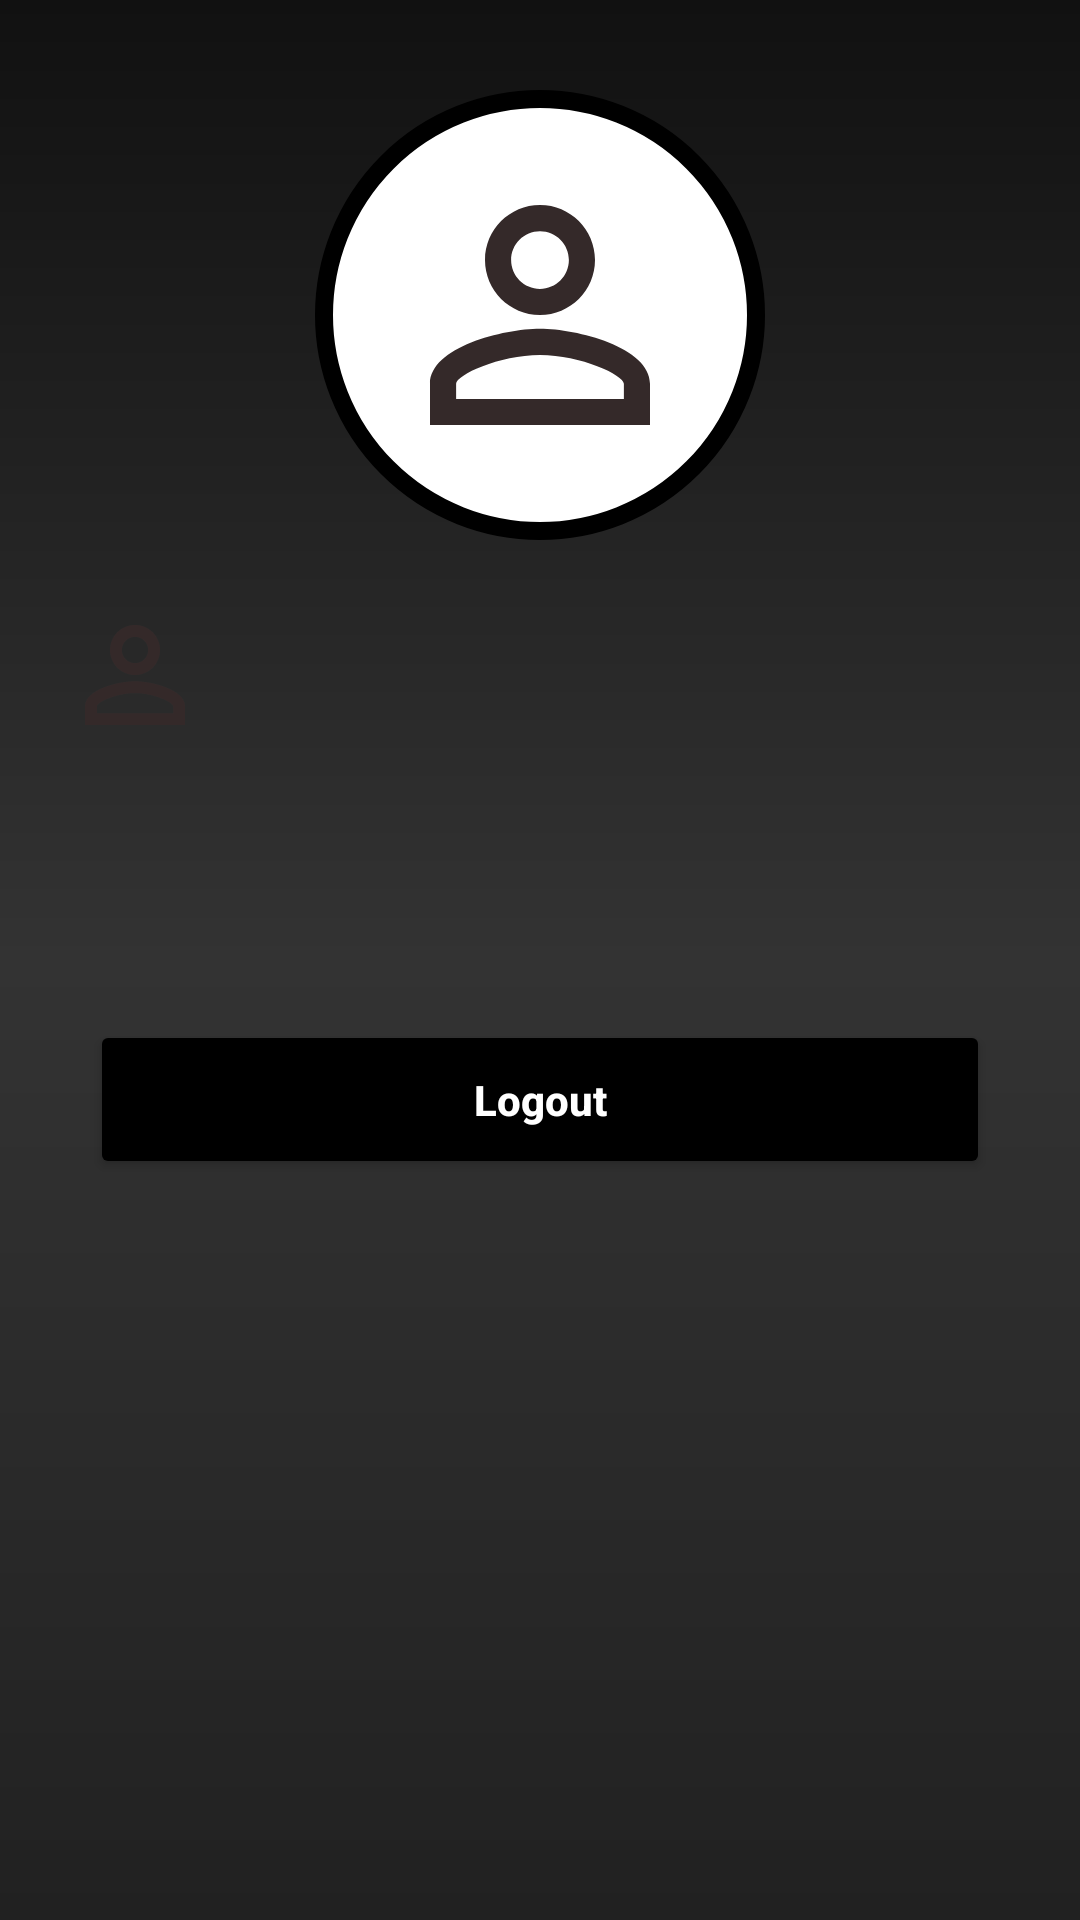

Named icons in this screenshot (1080px x 1920px) and their centers, [x,y]:
usuario: [540,315]
